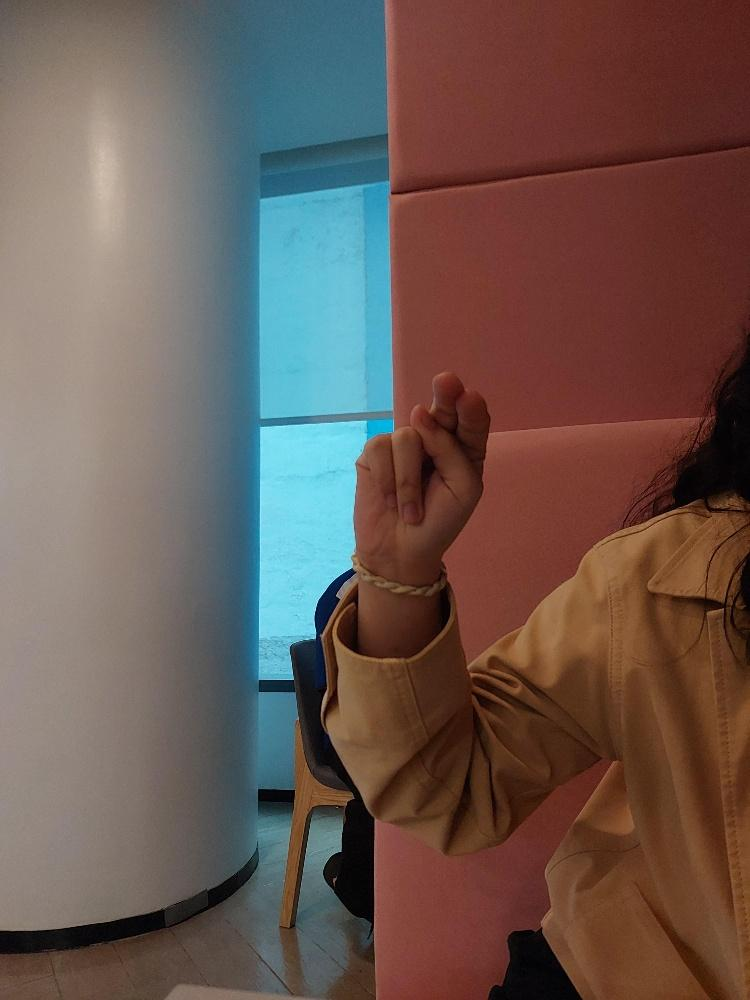n: (347, 365, 496, 585)
